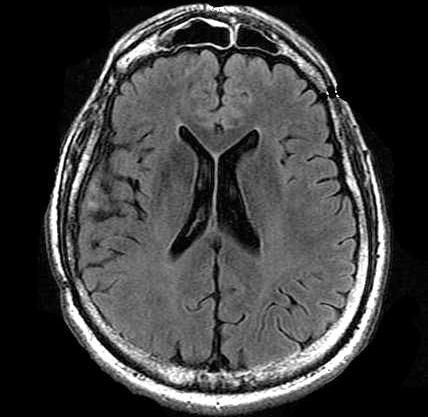Normal_Brain: (8, 4, 428, 417)
